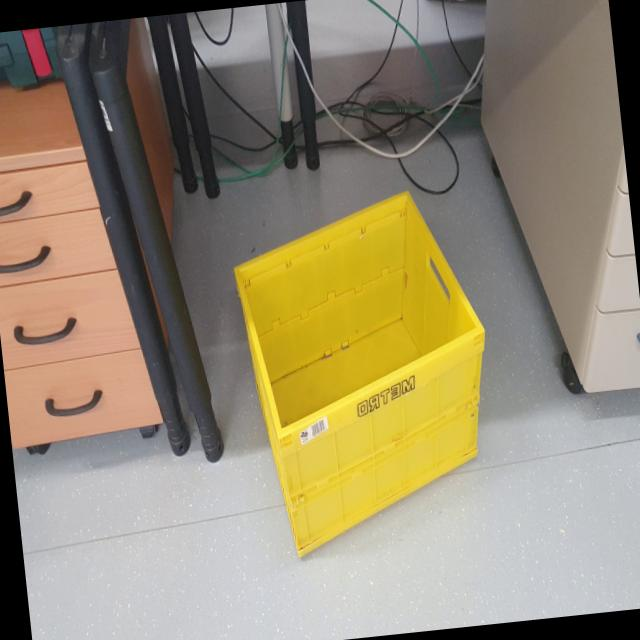box: (221, 175, 512, 566)
